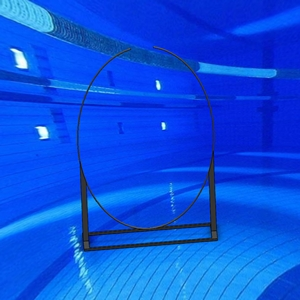circle: (76, 45, 220, 253)
